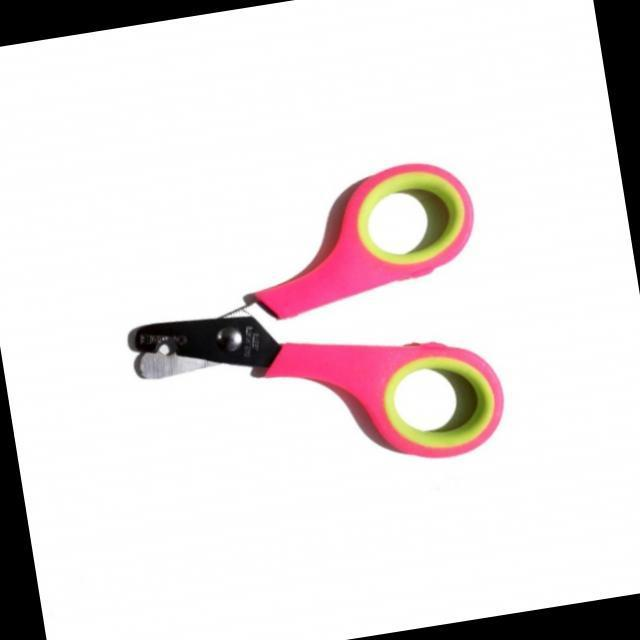scissors: (79, 132, 551, 528)
